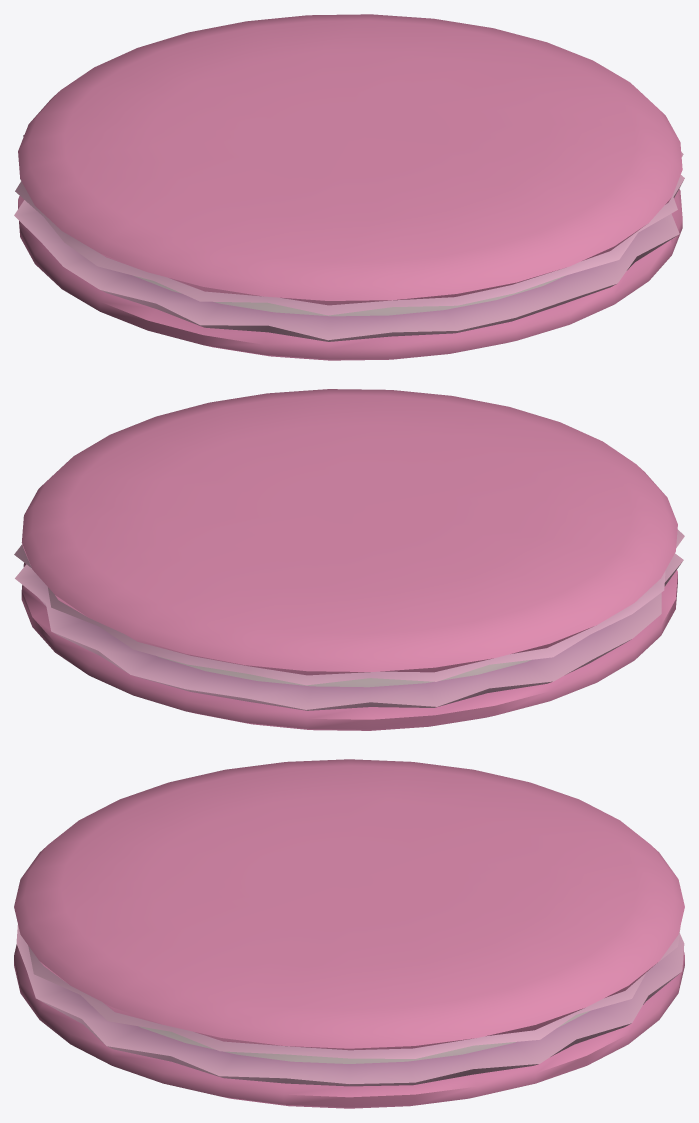
The model's file is macaron.glb.
The picture shows the model from 3 angles, top to bottom: view 1: azimuth 30°, elevation 25°; view 2: azimuth 150°, elevation 25°; view 3: azimuth 270°, elevation 25°; orthographic projection. The views are drawn at different scales.
Visible parts, largest first — view 1: body; view 2: body; view 3: body.
Boxes of the visible parts, x1,y1,x2,y2 form: body: (14, 14, 684, 360); body: (14, 389, 684, 730); body: (14, 759, 684, 1108).
Size of the model in its own units: 0.84 by 0.14 by 0.84.
